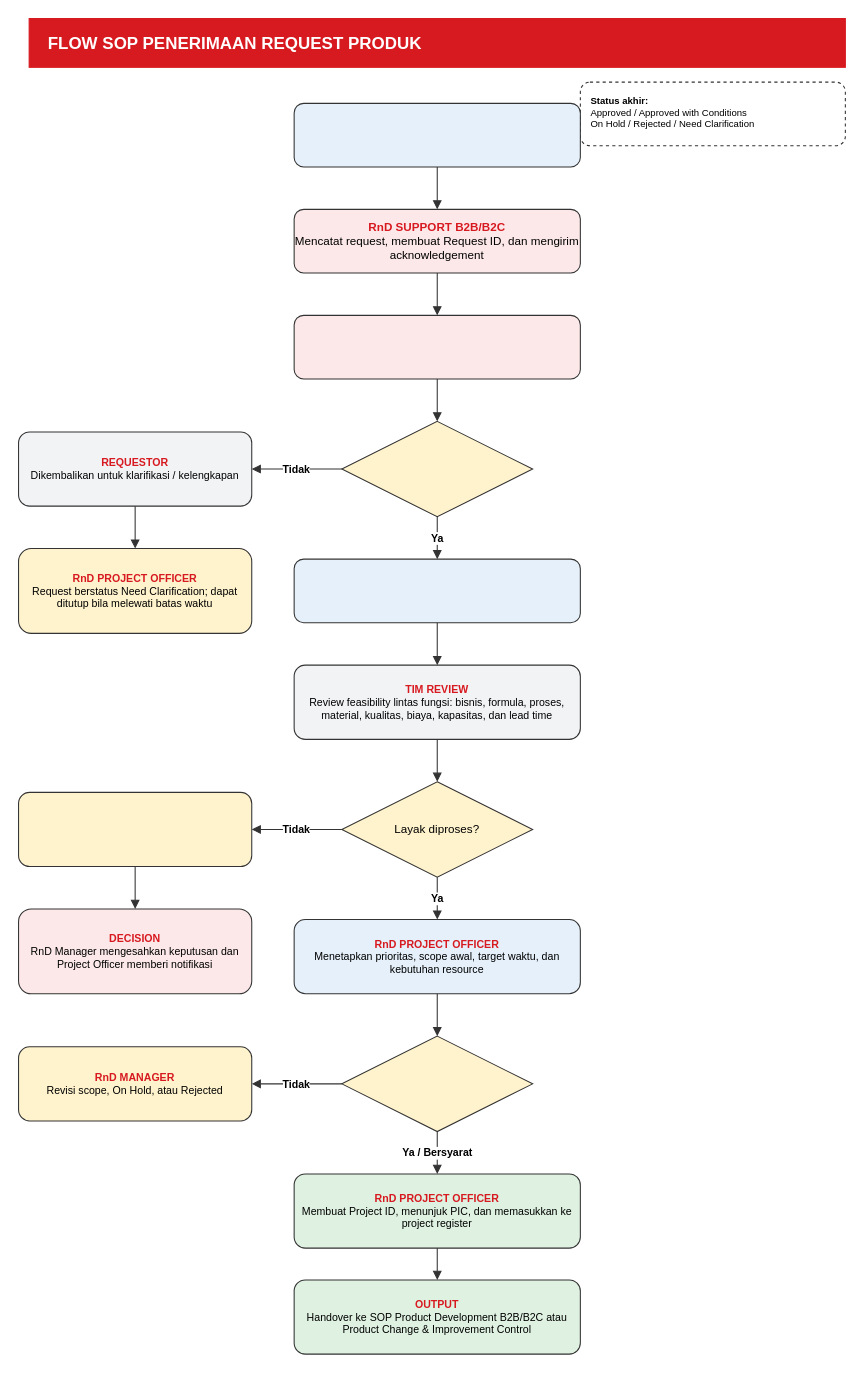
Some shapes in this 864 by 1373 pixel diagram are drawn without their labels. Here are the shapes that lost their labels. From the top down, the centre of each, then its label:
At point (436, 134): "REQUESTOR Requestor mengirim Product Request Form dan dokumen pendukung".
At point (436, 346): "RnD PROJECT OFFICER Memeriksa kelengkapan administratif dan minimum brief".
At point (437, 468): "Data lengkap?".
At point (436, 590): "RnD PROJECT OFFICER Mengklasifikasikan jenis request dan jalur proses".
At point (134, 829): "TIM REVIEW Usulan status: Rejected atau On Hold beserta alasan".
At point (437, 1083): "Disetujui RnD Manager?".
